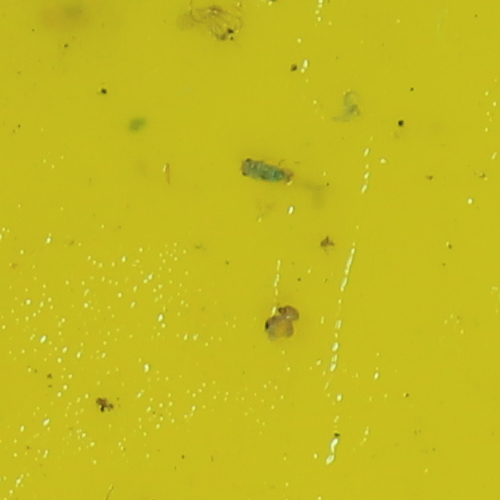psylla: (233, 155, 292, 188)
